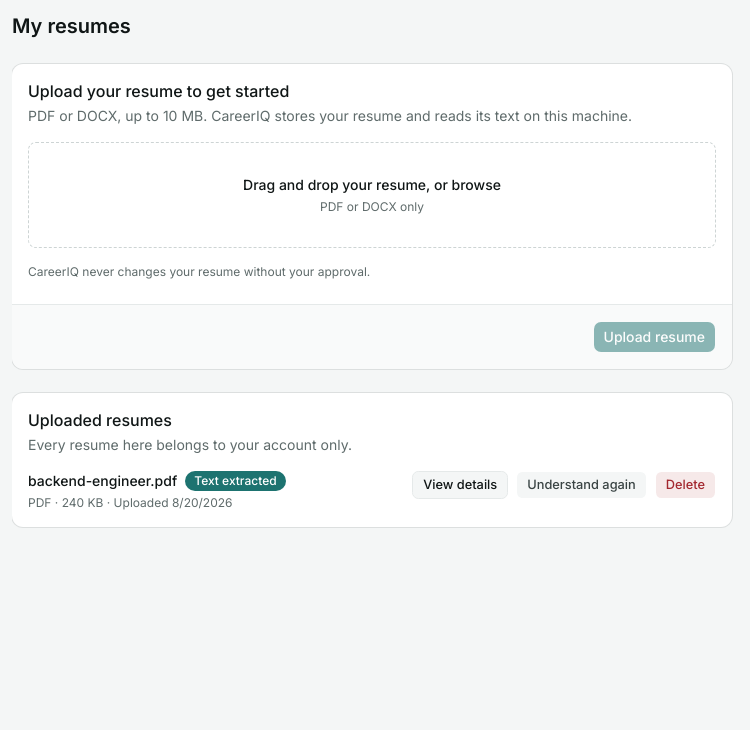
it: ai resume understanding › loads a stored understanding on demand for an understood resume
Click the button "View details" at (460,485), box [412, 471, 508, 499]
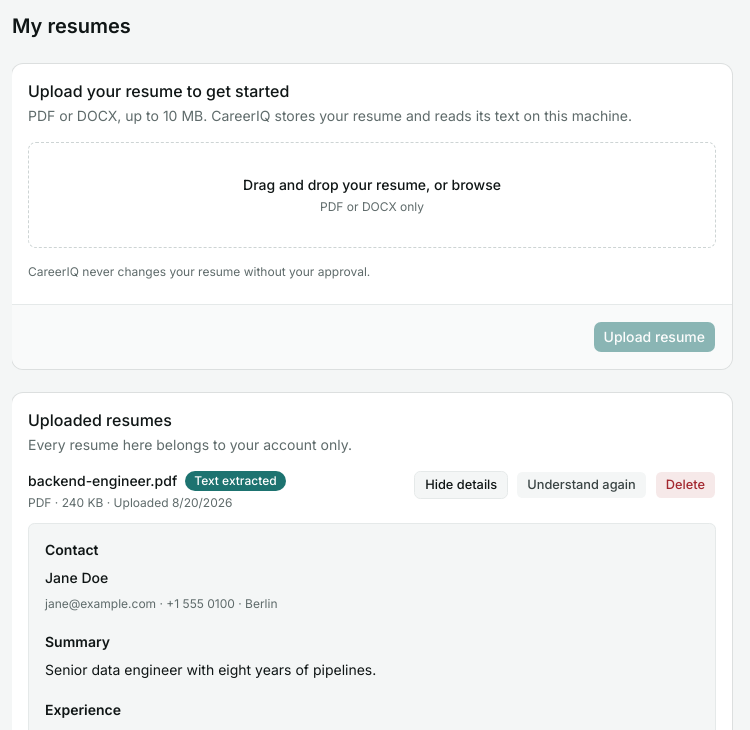
Expected: the text "Jane Doe" is shown, [45, 569, 108, 586]
